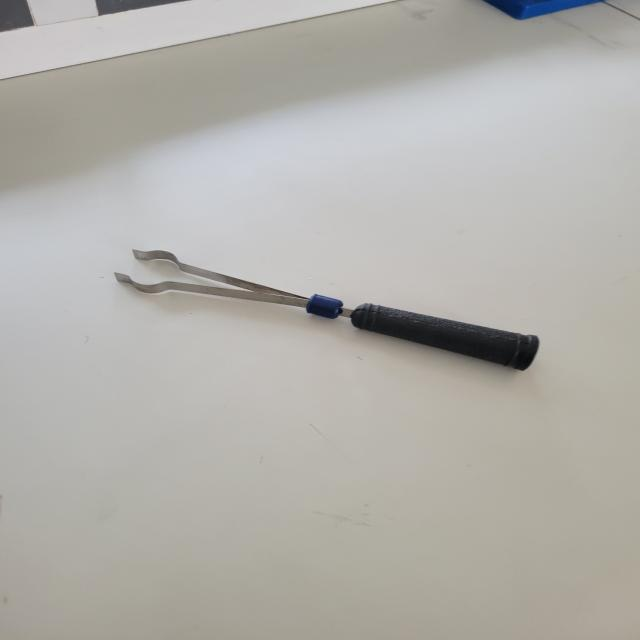TestTube_Holder: (70, 218, 565, 406)
